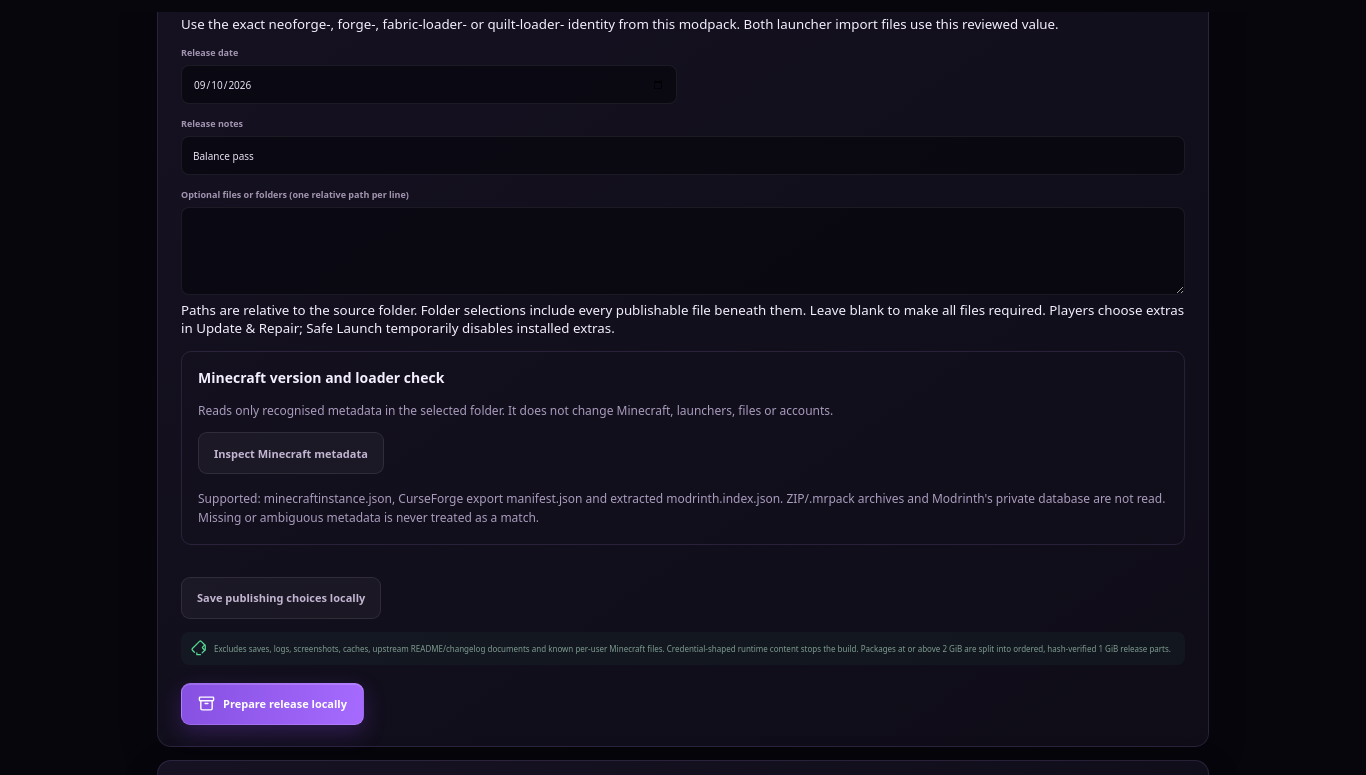
Scenario: Per-release publishing choices › copies detected values into the draft only and invalidates a previous release preview
The width and height of the screenshot is (1366, 775).
(page scrolled)
Click the button "Prepare release locally".
click(272, 704)  # box [181,683,364,725]
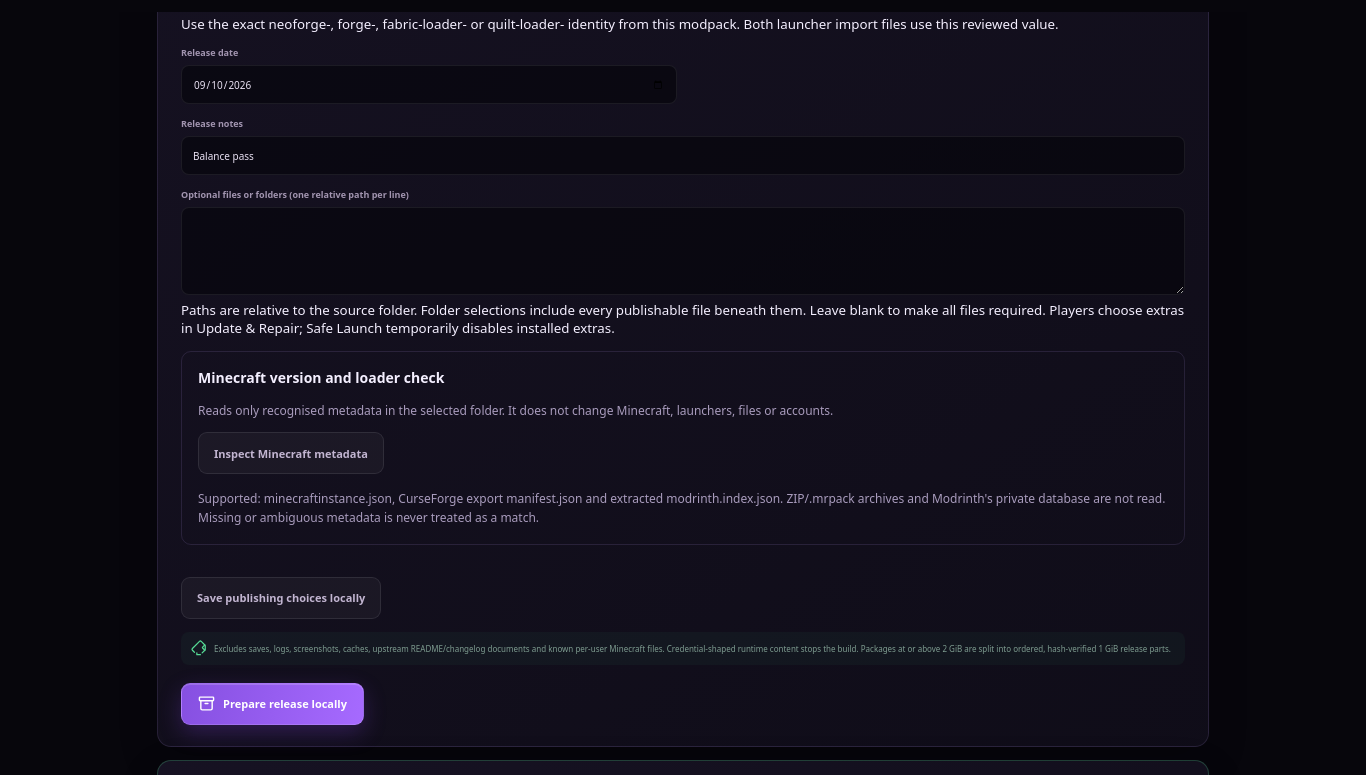
Click the button "Inspect Minecraft metadata".
click(291, 453)  # box [198,432,384,474]
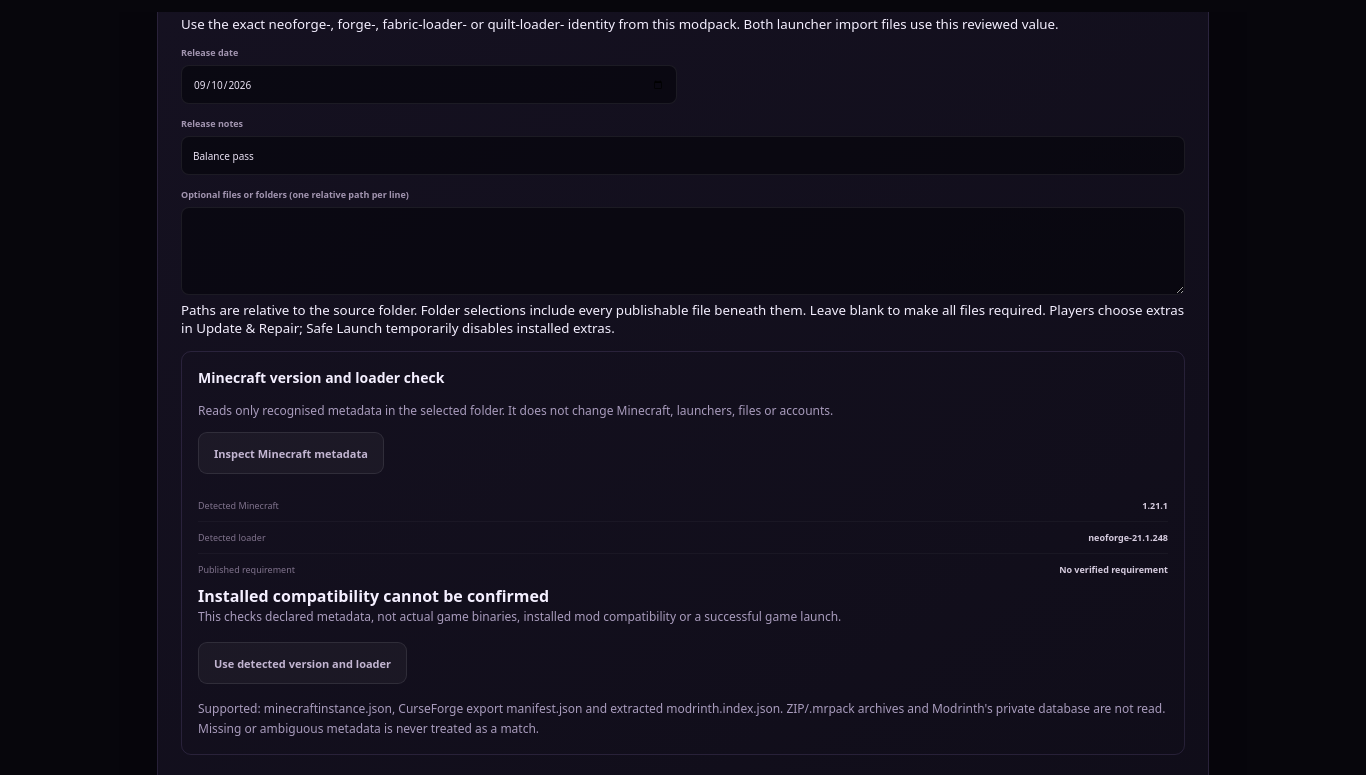
Click the button "Use detected version and loader".
click(303, 663)  # box [198,642,407,684]
(page scrolled)
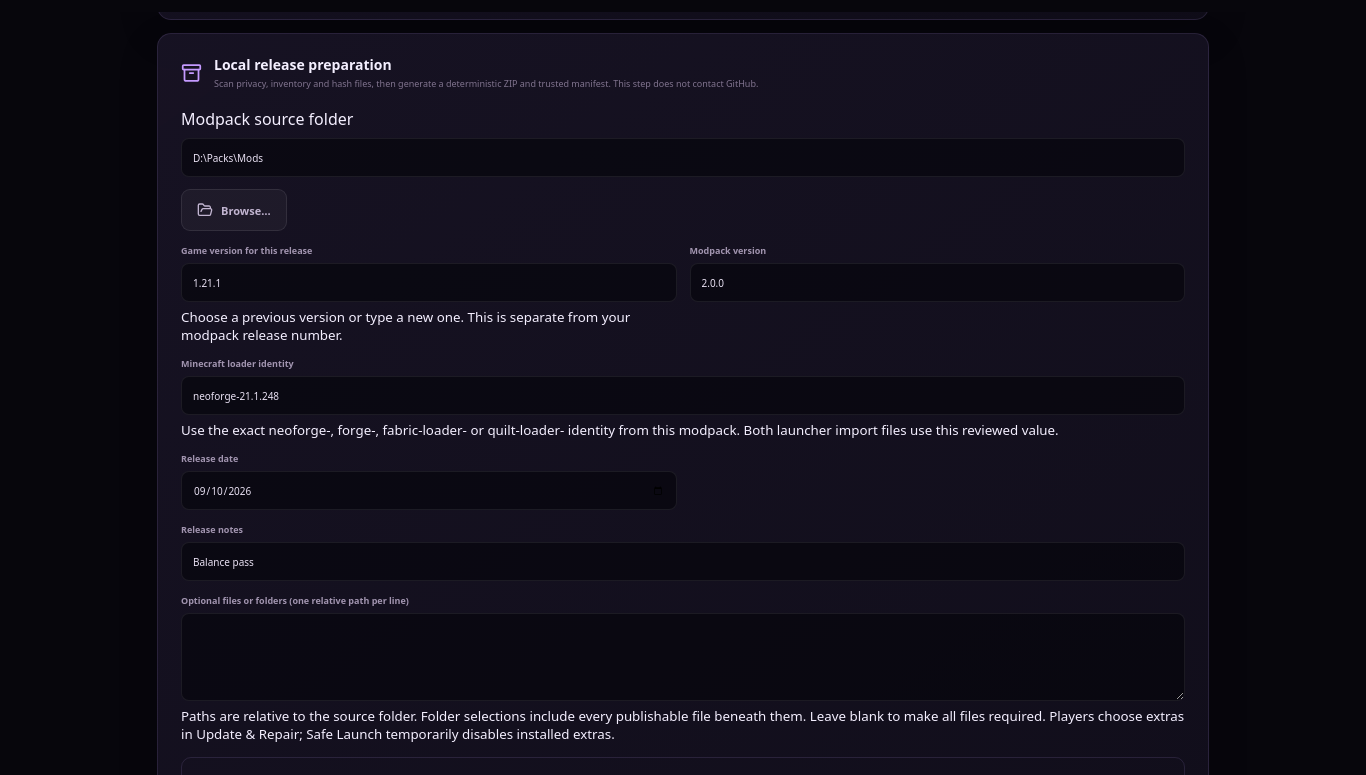
Now the field labelled "Game version for this release" holds "1.21.1", box [181,263,676,302]
Now the field labelled "Minecraft loader identity" holds "neoforge-21.1.248", box [181,376,1185,415]
